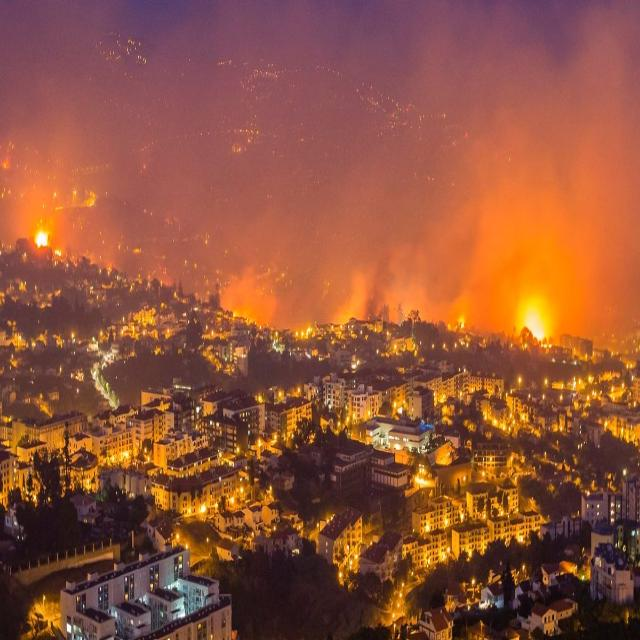Fire: (515, 285, 559, 368), (34, 230, 61, 260)
Smoke: (11, 0, 640, 335)
